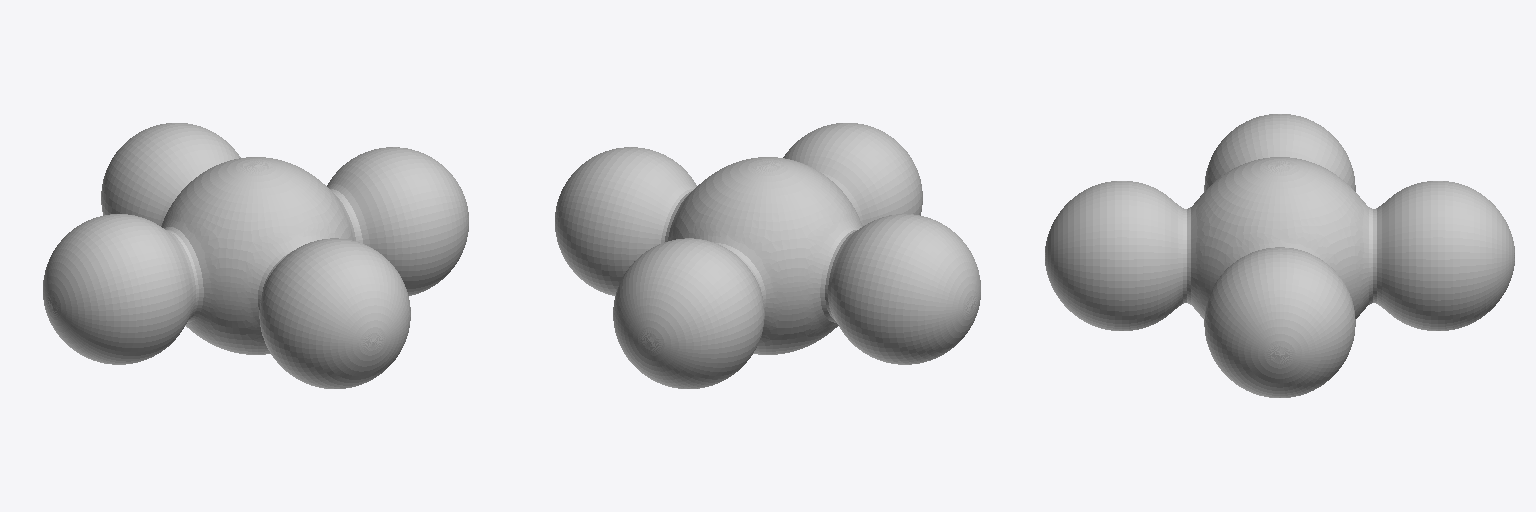
Rendered from bubbles.obj.
The picture shows the model from 3 angles: view 1: azimuth 30°, elevation 25°; view 2: azimuth 150°, elevation 25°; view 3: azimuth 270°, elevation 25°; orthographic projection.
Visible parts, largest first — view 1: Sphere; view 2: Sphere; view 3: Sphere.
Part boxes in pixels (x1,y1,x2,y2): Sphere: (43,123,468,388); Sphere: (555,123,980,388); Sphere: (1045,114,1514,397).
Bounding box in the file's own units: 4.68 × 1.99 × 4.68.